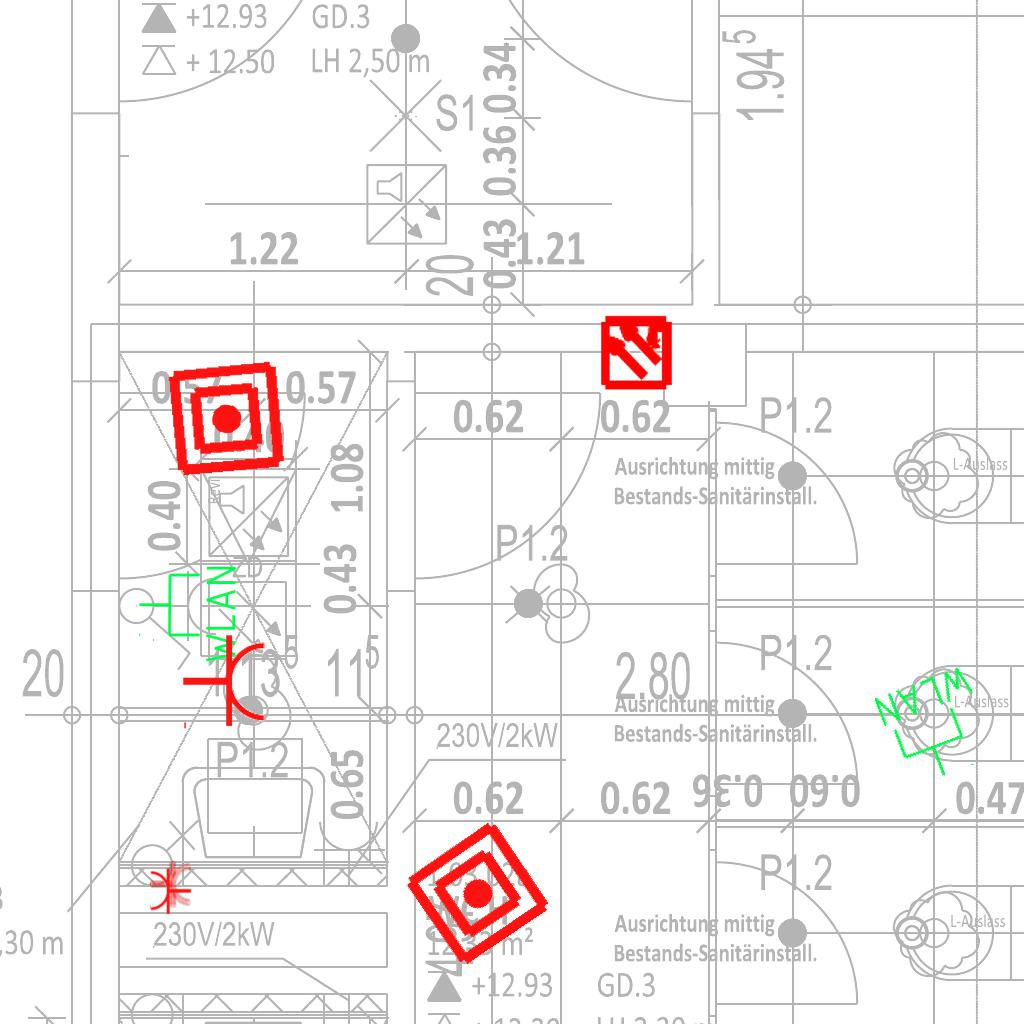NAM-Nichtautomatischer_Melder: (399, 815, 556, 972), (165, 357, 288, 480)
OT_Multisensormelder_(Kombination_RMO_WMD): (580, 294, 693, 407)
Schukosteckdose_einfach: (181, 633, 268, 733), (149, 860, 192, 910), (149, 865, 192, 915)
WLAN: (868, 659, 1004, 794), (136, 562, 240, 667)
